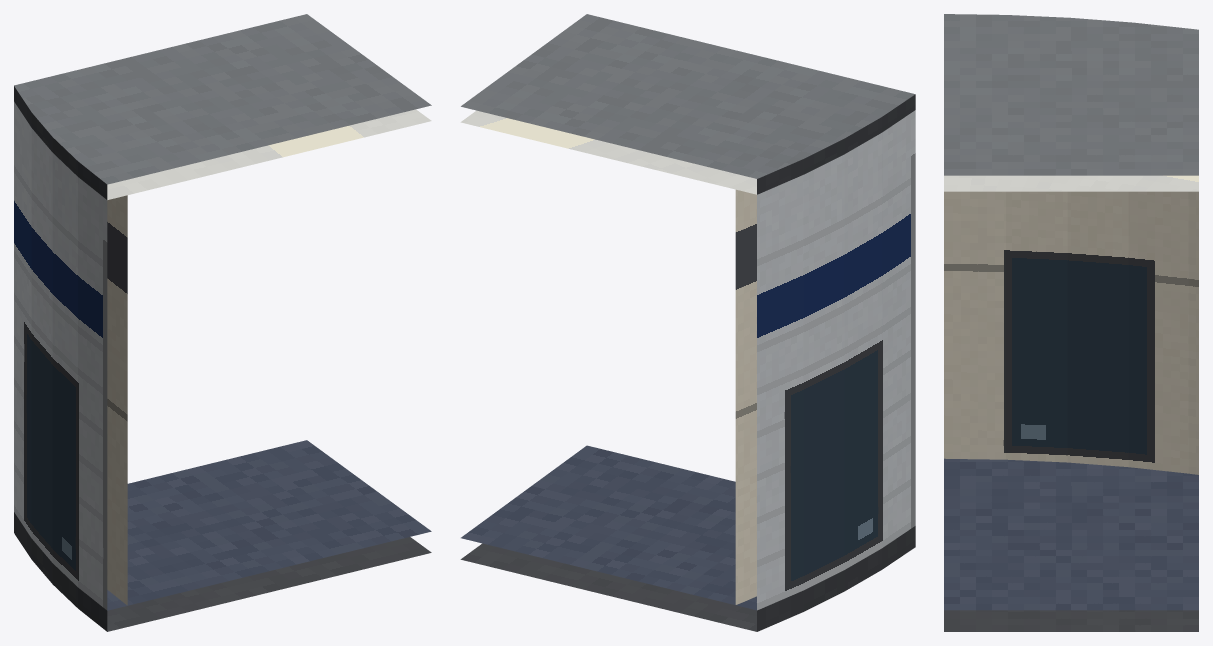
The model's file is airport_jet_bridge_turn_c0.obj.
The picture shows the model from 3 angles, left to right: view 1: azimuth 30°, elevation 25°; view 2: azimuth 150°, elevation 25°; view 3: azimuth 270°, elevation 25°; orthographic projection. The views are drawn at different scales.
Parts seen in each view (by area): view 1: airport_jet_bridge_turn_c0; view 2: airport_jet_bridge_turn_c0; view 3: airport_jet_bridge_turn_c0.
Part boxes in pixels (box(x1,y1,x2,y2)): airport_jet_bridge_turn_c0: box(14, 14, 431, 631); airport_jet_bridge_turn_c0: box(460, 14, 915, 631); airport_jet_bridge_turn_c0: box(944, 14, 1198, 631).
Size of the model in its own units: 1.5 by 1.98 by 1.
